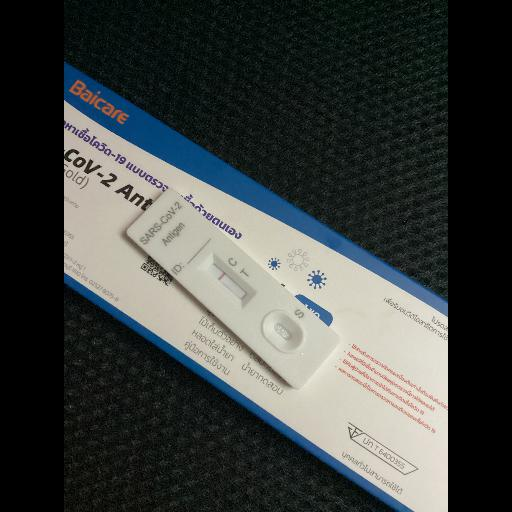Neg: (124, 184, 343, 391)
